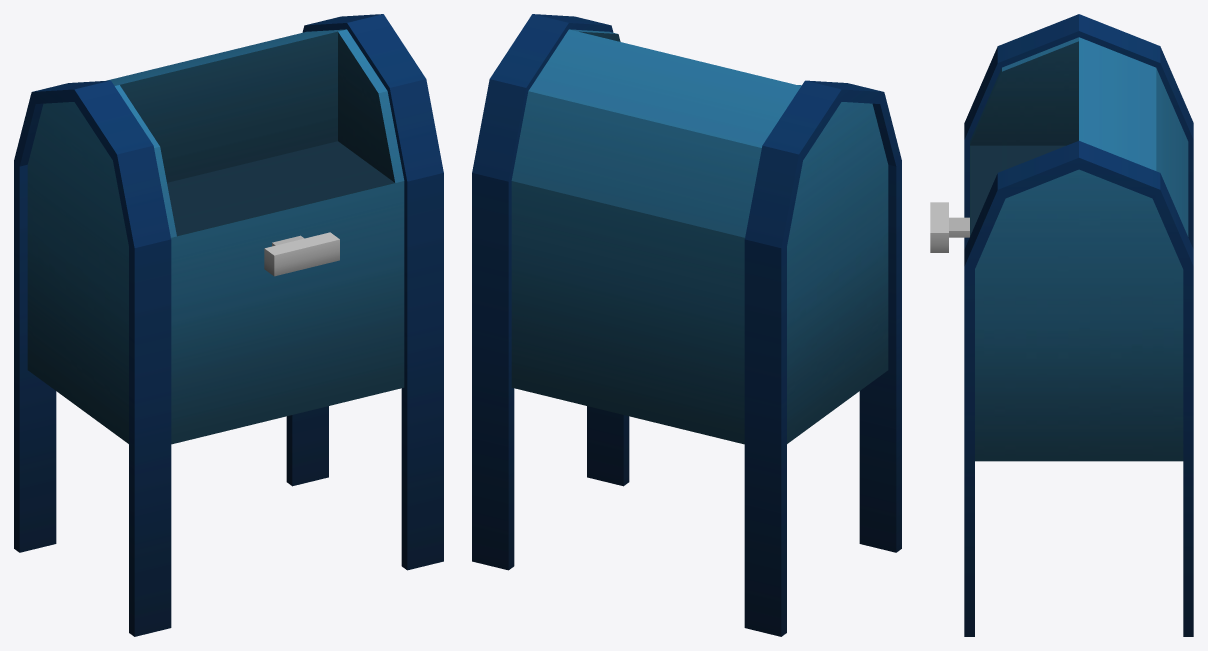
File: box_letter.fbx
3 views of the same model, side by side, from view 1: azimuth 30°, elevation 25°; view 2: azimuth 150°, elevation 25°; view 3: azimuth 270°, elevation 25° (orthographic). The views are drawn at different scales.
Visible parts, largest first — view 1: box_letter; view 2: box_letter; view 3: box_letter.
Part boxes in pixels (bbox=[...]): box_letter: bbox=[14, 14, 443, 636]; box_letter: bbox=[472, 14, 901, 636]; box_letter: bbox=[930, 14, 1193, 636].
Bounding box in the file's own units: 58.86 × 91.54 × 45.63.
